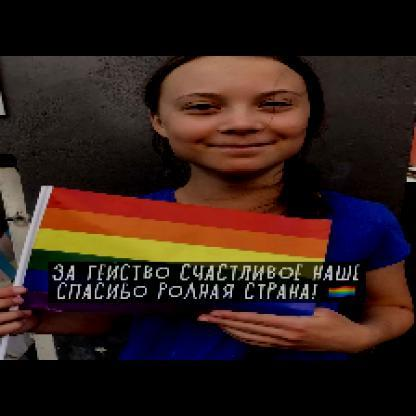child: (1, 55, 414, 361)
